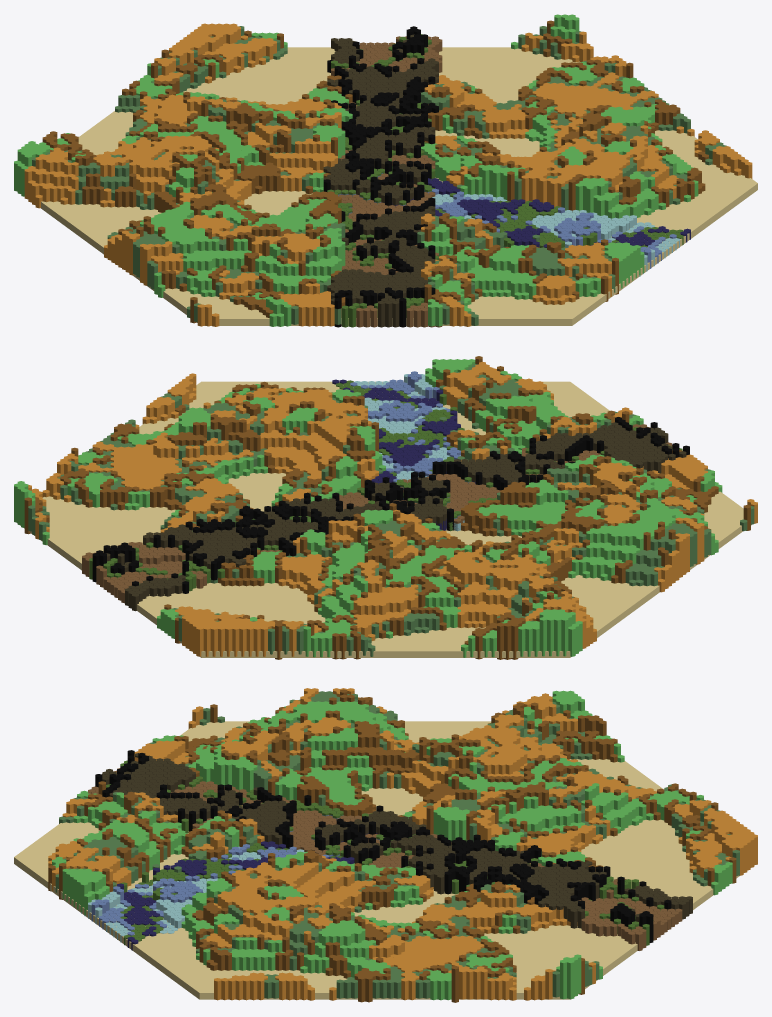
File: 0000_tile_1122120.fbx
3 renders of one model, top to bottom at view 1: azimuth 30°, elevation 25°; view 2: azimuth 150°, elevation 25°; view 3: azimuth 270°, elevation 25°, orthographic.
Parts seen in each view (by area): view 1: Plane; view 2: Plane; view 3: Plane.
Part boxes in pixels (x1,y1,x2,y2): Plane: [14, 14, 757, 327]; Plane: [14, 356, 757, 659]; Plane: [14, 688, 757, 1002].
Bounding box in the file's own units: 1008 × 75.42 × 1152.
